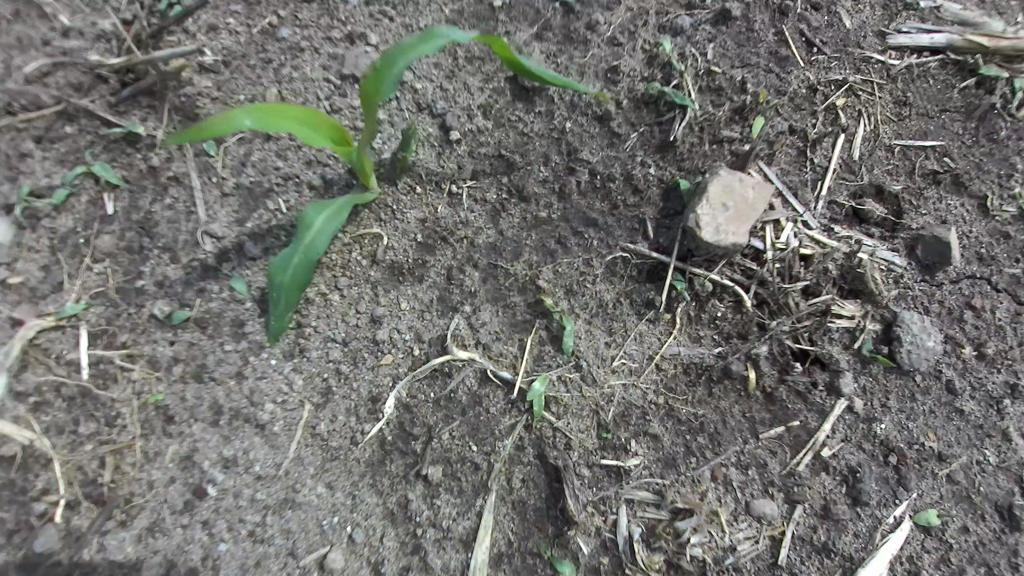BroWeed: (77, 144, 138, 202), (853, 332, 897, 379), (525, 540, 581, 576), (651, 30, 687, 78), (644, 78, 696, 111), (968, 52, 1012, 88), (217, 261, 254, 302), (909, 503, 955, 534), (57, 157, 93, 195), (980, 192, 1014, 231), (530, 290, 568, 324), (22, 186, 70, 210), (144, 292, 181, 323), (101, 118, 148, 142), (666, 268, 696, 305), (50, 295, 90, 322), (522, 368, 551, 404), (671, 172, 698, 207), (621, 441, 649, 473), (161, 58, 194, 84), (161, 304, 193, 330), (559, 311, 577, 356), (75, 301, 110, 324), (747, 110, 769, 143), (742, 360, 761, 398), (13, 183, 29, 228), (531, 391, 545, 430), (81, 294, 111, 310), (201, 138, 220, 162), (145, 390, 166, 406), (170, 0, 189, 17), (757, 83, 769, 106), (833, 94, 850, 109), (684, 173, 703, 186), (1015, 184, 1024, 211), (1000, 202, 1019, 211), (599, 430, 614, 441), (518, 380, 531, 392), (1015, 106, 1024, 121)
